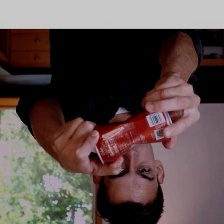can: (86, 107, 179, 166)
